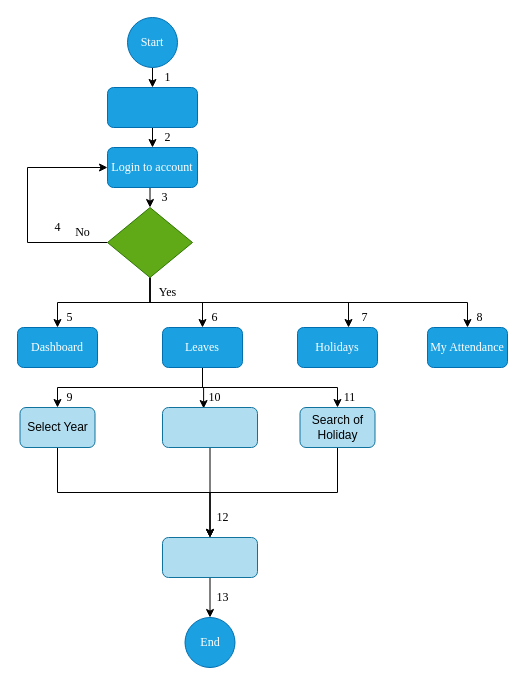
The diagram is 525 pixels wide and 685 high, and some of its shapes have lost their labels. The shapes that lost their labels are listed below. From the top down, each one's centre as x and y in pixels, then its label:
(152,107): Open Cure MD Portal
(149,242): Valid Login
(210,427): Select Number of holidays
(210,557): Public Holidays are displayed
